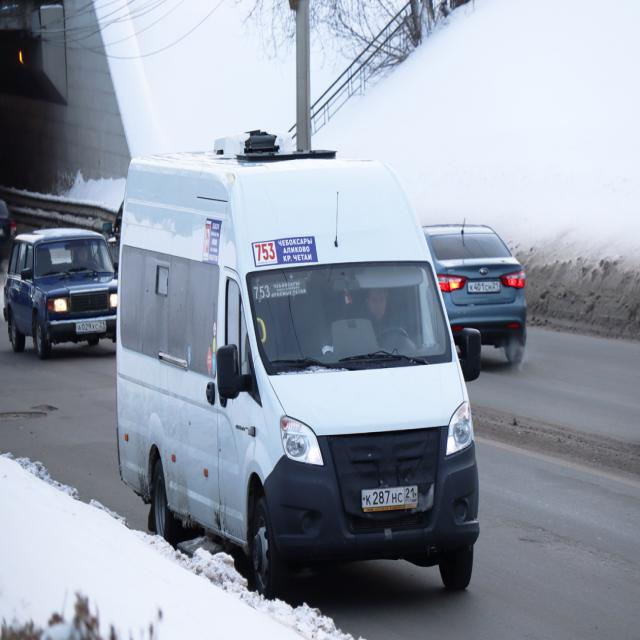number-of-bus: (253, 238, 279, 267), (252, 282, 274, 302)
